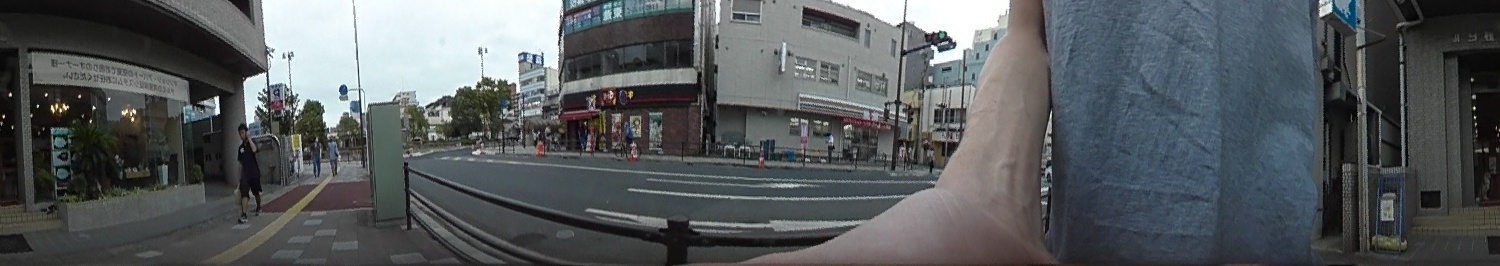difficult_person: (326, 135, 341, 175), (308, 133, 322, 175), (620, 116, 634, 151), (823, 130, 836, 162), (576, 120, 589, 149), (542, 122, 553, 149)
person: (229, 120, 267, 222)
